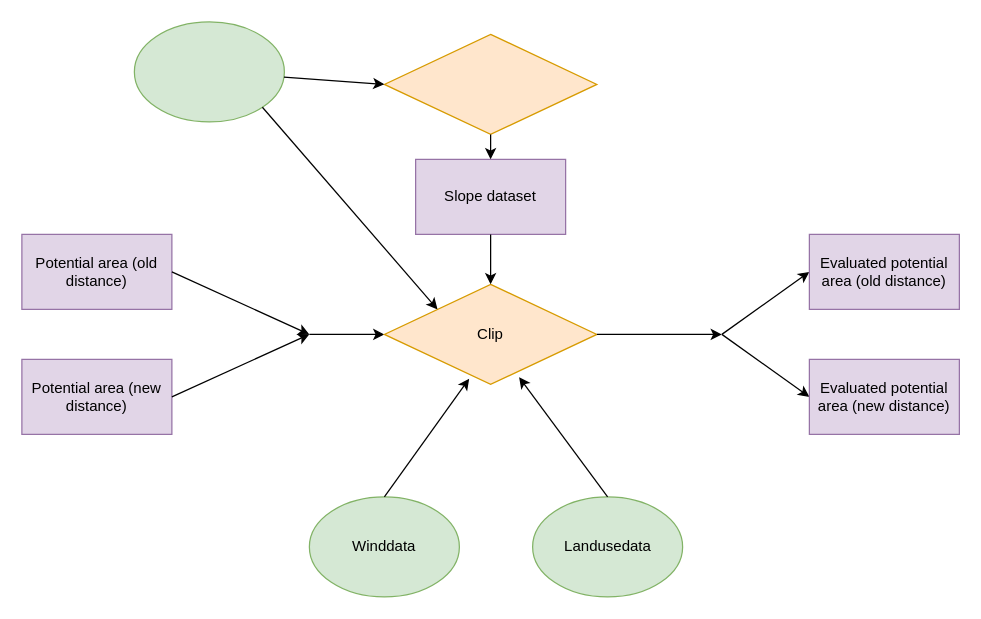
The diagram is 981 pixels wide and 619 high, and some of its shapes have lost their labels. The centre of each missing label's shape, as x and y in pixels:
calculate slope: point (490, 83)
DEM: point (208, 71)
